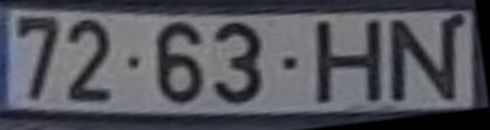2: (65, 17, 118, 106)
3: (210, 21, 266, 108)
6: (153, 20, 207, 107)
7: (15, 15, 63, 107)
H: (311, 19, 388, 109)
N: (388, 17, 461, 106)
